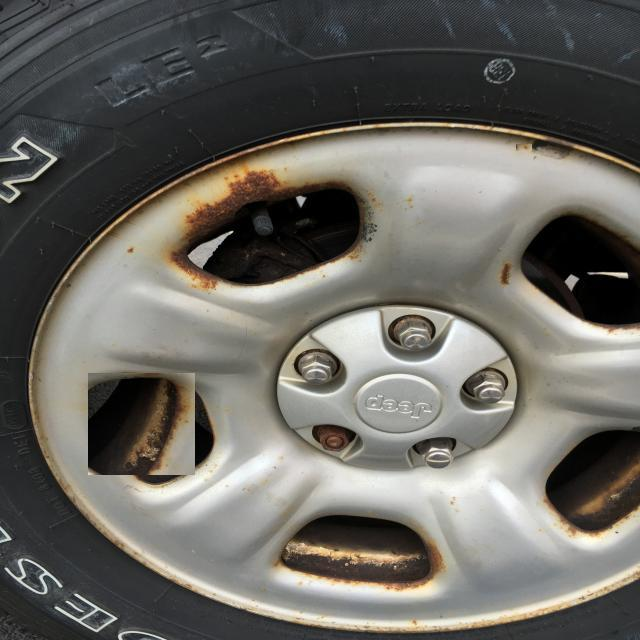Corrosion: (283, 540, 432, 584), (196, 171, 290, 226), (129, 410, 175, 476), (573, 491, 640, 532), (148, 374, 195, 422), (544, 497, 585, 542), (177, 202, 216, 248), (165, 256, 216, 290), (276, 558, 340, 582), (615, 456, 640, 516), (380, 576, 431, 598), (331, 580, 399, 596), (315, 426, 354, 452), (422, 542, 446, 582), (172, 384, 191, 432), (311, 250, 350, 270), (152, 434, 168, 470), (498, 262, 514, 286), (347, 237, 367, 256), (275, 274, 298, 282)
